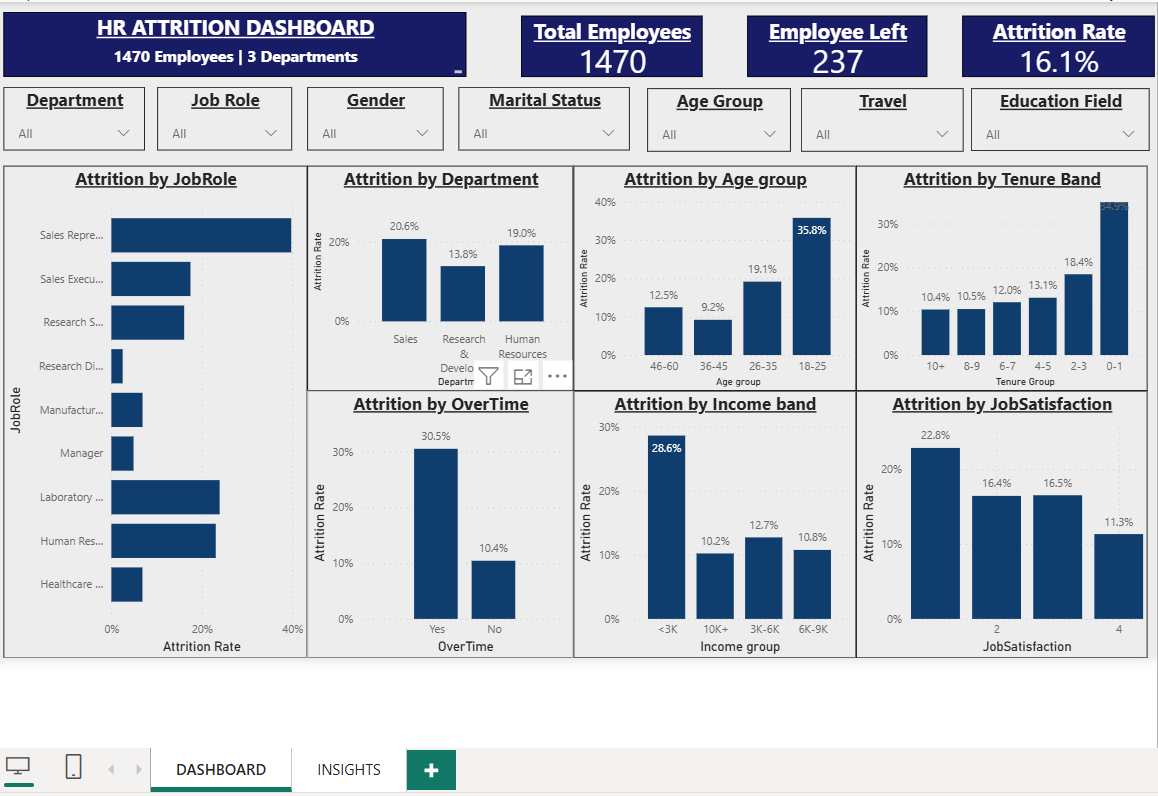

What the dashboard file says about the page in this screenshot:
{"tool":"powerbi","page":{"name":"DASHBOARD","canvas":[1280,720],"ordinal":0},"visuals":[{"type":"textbox","title":"HR ATTRITION DASHBOARD","box":[13.7,11,507.7,71.4],"z":0},{"type":"slicer","title":"Travel","fields":{"Values":["HRA.BusinessTravel"]},"box":[889.2,94.7,178.4,70],"z":1000},{"type":"slicer","title":"Age Group","fields":{"Values":["HRA.Age group"]},"box":[720.4,94.7,157.8,70],"z":2000},{"type":"slicer","title":"Marital Status","fields":{"Values":["HRA.MaritalStatus"]},"box":[513.2,93.3,188,70],"z":3000},{"type":"slicer","title":"Department","fields":{"Values":["HRA.Department"]},"box":[13.7,93.3,155.1,70],"z":4000},{"type":"slicer","title":"Education Field","fields":{"Values":["HRA.EducationField"]},"box":[1075.8,94.7,196.2,68.6],"z":5000},{"type":"slicer","title":"Job Role","fields":{"Values":["HRA.JobRole"]},"box":[182.5,93.3,148.2,70],"z":6000},{"type":"clusteredBarChart","title":"Attrition by JobRole","fields":{"Category":["HRA.JobRole"],"Y":["HRA.Attrition Rate"]},"box":[13.7,179.8,333.4,540.7],"z":7000},{"type":"columnChart","title":"Attrition by Department","fields":{"Category":["HRA.Department"],"Y":["HRA.Attrition Rate"]},"box":[347.2,179.8,292.3,247],"z":8000},{"type":"columnChart","title":"Attrition by Age group","fields":{"Category":["HRA.Age group"],"Y":["HRA.Attrition Rate"]},"box":[639.5,179.8,310.1,247],"z":9000},{"type":"columnChart","title":"Attrition by Tenure Band","fields":{"Category":["HRA.Tenure Band"],"Y":["HRA.Attrition Rate"]},"box":[949.6,179.8,319.7,247],"z":10000},{"type":"columnChart","title":"Attrition  by Income band","fields":{"Y":["HRA.Attrition Rate"],"Category":["HRA.Income band"]},"box":[639.5,426.8,310.1,293.7],"z":11000},{"type":"clusteredColumnChart","title":"Attrition  by OverTime","fields":{"Category":["HRA.OverTime"],"Y":["HRA.Attrition Rate"]},"box":[347.2,426.8,292.3,293.7],"z":12000},{"type":"clusteredColumnChart","title":"Attrition by JobSatisfaction","fields":{"Category":["HRA.JobSatisfaction"],"Y":["HRA.Attrition Rate"]},"box":[949.6,426.8,319.7,293.7],"z":13000},{"type":"card","title":"Total Employees","fields":{"Values":["HRA.Total Employees"]},"box":[582.4,15.1,199,67.2],"z":14000},{"type":"card","title":"Employee Left","fields":{"Values":["HRA.Employee Left"]},"box":[830.7,15.1,197.6,67.2],"z":15000},{"type":"card","title":"Attrition Rate","fields":{"Values":["HRA.Attrition Rate"]},"box":[1066.8,15.1,211.3,67.2],"z":16000},{"type":"slicer","title":"Gender","fields":{"Values":["HRA.Gender"]},"box":[347.2,93.3,149.6,70],"z":17000}]}

Visuals, with their boxes on the page's 1280x720 design canvas (x1, y1, x2, y2). These are canvas units, not pixel positions in the 1158x796 screenshot, which may show the page scaled, cropped or inside an application window:
"HR ATTRITION DASHBOARD" textbox: BBox(14, 11, 521, 82)
"Travel" slicer: BBox(889, 95, 1068, 165)
"Age Group" slicer: BBox(720, 95, 878, 165)
"Marital Status" slicer: BBox(513, 93, 701, 163)
"Department" slicer: BBox(14, 93, 169, 163)
"Education Field" slicer: BBox(1076, 95, 1272, 163)
"Job Role" slicer: BBox(182, 93, 331, 163)
"Attrition by JobRole" clusteredBarChart: BBox(14, 180, 347, 720)
"Attrition by Department" columnChart: BBox(347, 180, 640, 427)
"Attrition by Age group" columnChart: BBox(640, 180, 950, 427)
"Attrition by Tenure Band" columnChart: BBox(950, 180, 1269, 427)
"Attrition  by Income band" columnChart: BBox(640, 427, 950, 720)
"Attrition  by OverTime" clusteredColumnChart: BBox(347, 427, 640, 720)
"Attrition by JobSatisfaction" clusteredColumnChart: BBox(950, 427, 1269, 720)
"Total Employees" card: BBox(582, 15, 781, 82)
"Employee Left" card: BBox(831, 15, 1028, 82)
"Attrition Rate" card: BBox(1067, 15, 1278, 82)
"Gender" slicer: BBox(347, 93, 497, 163)
